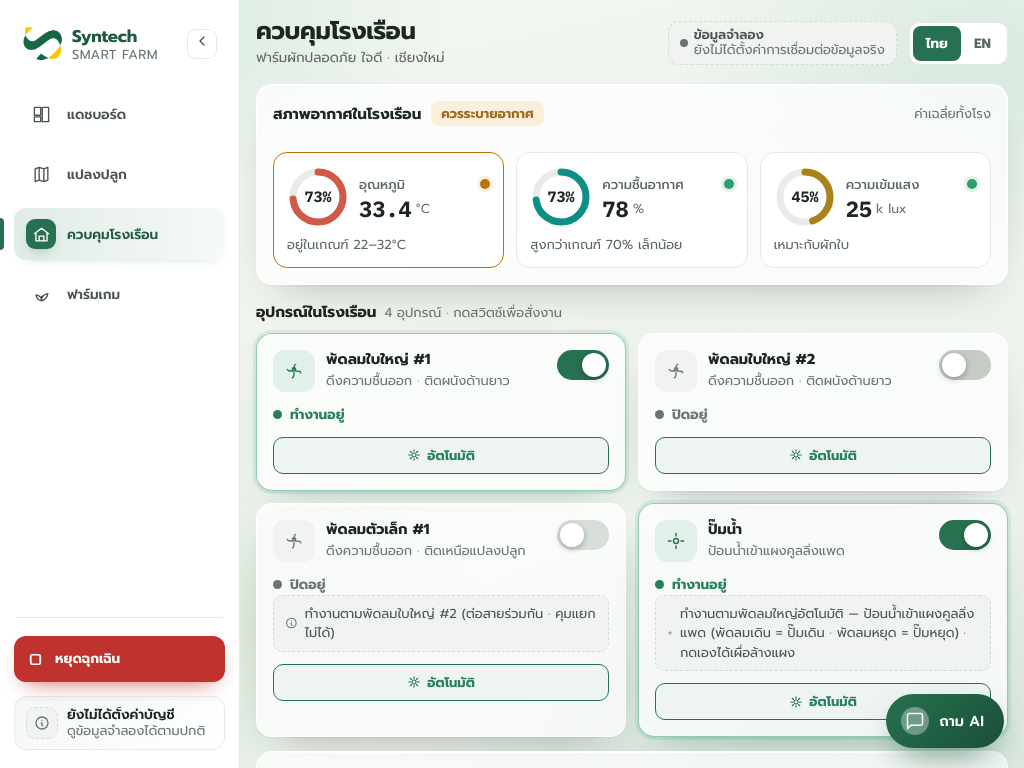
สถานะเชื่อมกันข้ามหน้า › อุณหภูมิที่ทุกหน้าเห็นเป็นค่าเดียวกัน (กฎ G2 จึงตัดสินเหมือนกัน)
The image size is (1024, 768).
Expected: the text "33.4" is shown, [359,198,412,220]
Click the button "แดชบอร์ด": (120,114) [14,88,225,140]
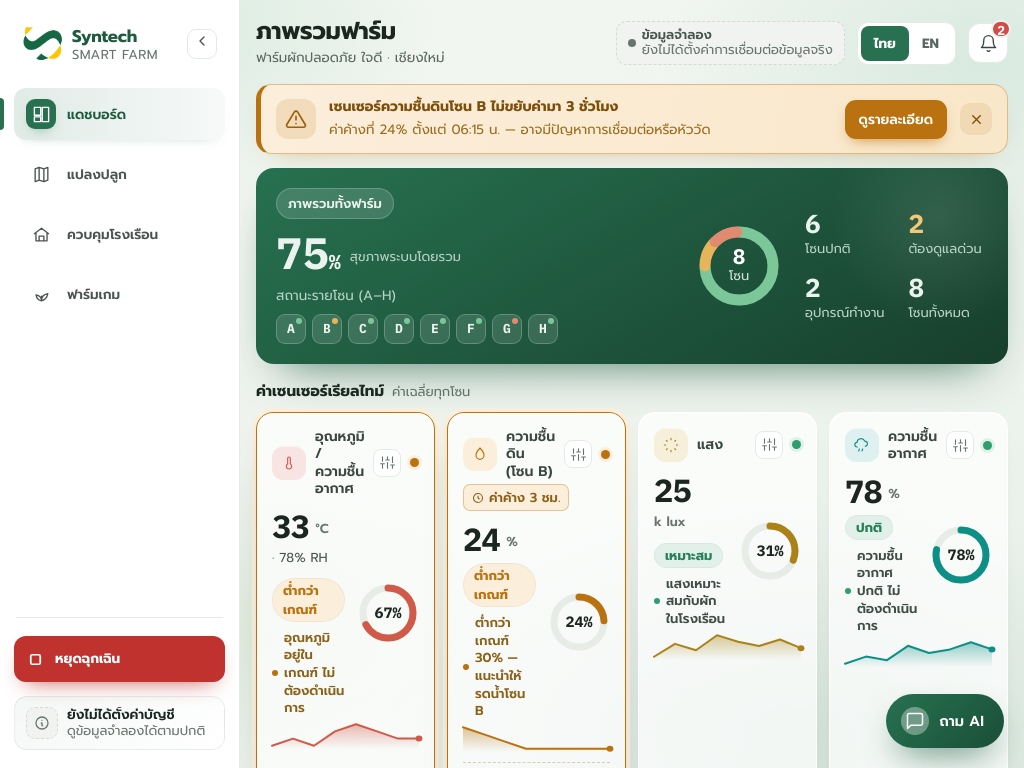
Result: the heading "ภาพรวมฟาร์ม" is shown at [256,13,396,49]
Result: the text "33" is shown at [272,510,309,542]
